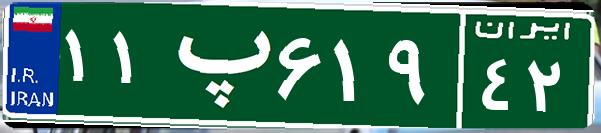1: (330, 28, 385, 110), (57, 26, 110, 107), (110, 28, 158, 105)
2: (525, 38, 570, 115)
4: (475, 38, 525, 113)
6: (273, 28, 330, 110)
9: (385, 28, 445, 110)
پ: (158, 15, 273, 115)
